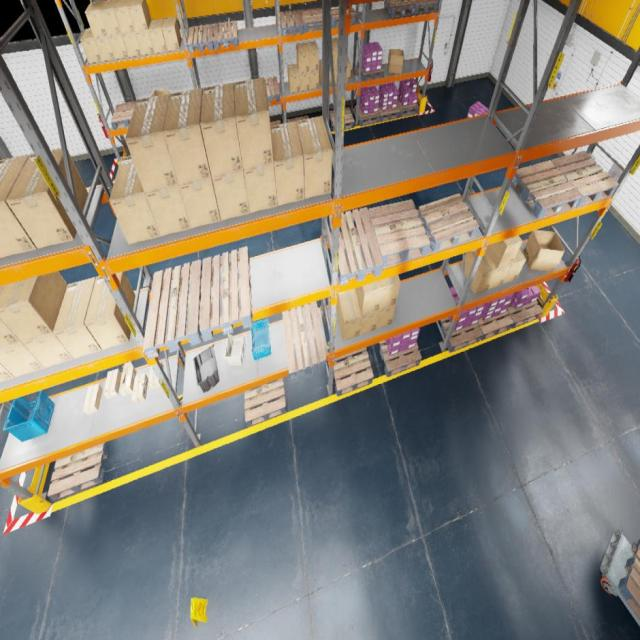box: (6, 148, 89, 248), (125, 93, 178, 193), (0, 271, 67, 341), (163, 89, 211, 185), (110, 156, 160, 244), (84, 272, 136, 350), (200, 82, 243, 176), (53, 278, 102, 359), (0, 155, 37, 258), (234, 77, 274, 169), (297, 116, 332, 199), (271, 121, 304, 206), (145, 185, 191, 236), (179, 176, 221, 228), (212, 170, 250, 221), (22, 332, 73, 368), (524, 230, 564, 272), (244, 164, 278, 213), (461, 249, 497, 294), (0, 341, 44, 377), (336, 289, 362, 340), (0, 284, 20, 347), (486, 236, 522, 268), (486, 250, 511, 290), (354, 281, 382, 315), (356, 294, 379, 335), (502, 248, 526, 284), (85, 0, 107, 37), (80, 28, 102, 63), (100, 0, 122, 35), (127, 0, 151, 31), (380, 274, 400, 309), (162, 16, 182, 51), (114, 0, 135, 33), (148, 18, 167, 53), (83, 383, 102, 415), (119, 362, 136, 396), (131, 373, 148, 404), (94, 36, 115, 61), (104, 368, 121, 398), (108, 34, 128, 59), (148, 360, 164, 390), (377, 304, 396, 329), (135, 30, 154, 55), (122, 32, 141, 57), (388, 48, 404, 74), (287, 64, 300, 94), (296, 43, 309, 73), (306, 41, 318, 71), (319, 59, 332, 86), (0, 363, 15, 382), (299, 71, 309, 91), (309, 70, 319, 89), (332, 37, 338, 66), (151, 89, 170, 97), (346, 56, 351, 82), (332, 67, 337, 86)
pallets: (143, 260, 202, 360), (200, 247, 252, 341), (329, 208, 383, 286), (368, 200, 431, 266), (512, 160, 582, 219), (552, 150, 618, 208), (419, 194, 479, 254), (48, 442, 109, 500), (283, 301, 326, 381), (329, 347, 374, 396), (244, 378, 286, 427), (617, 539, 640, 620), (379, 340, 422, 378), (440, 317, 483, 353), (478, 310, 514, 340), (507, 300, 543, 328), (187, 24, 214, 53), (213, 20, 238, 49), (111, 101, 135, 130), (280, 10, 304, 36), (330, 108, 354, 132), (331, 6, 357, 28), (356, 61, 384, 80), (384, 0, 415, 17), (301, 8, 322, 32), (355, 106, 380, 125), (265, 76, 280, 104), (397, 98, 419, 117), (378, 105, 401, 122), (411, 0, 438, 14), (286, 116, 308, 124), (270, 120, 280, 125)
